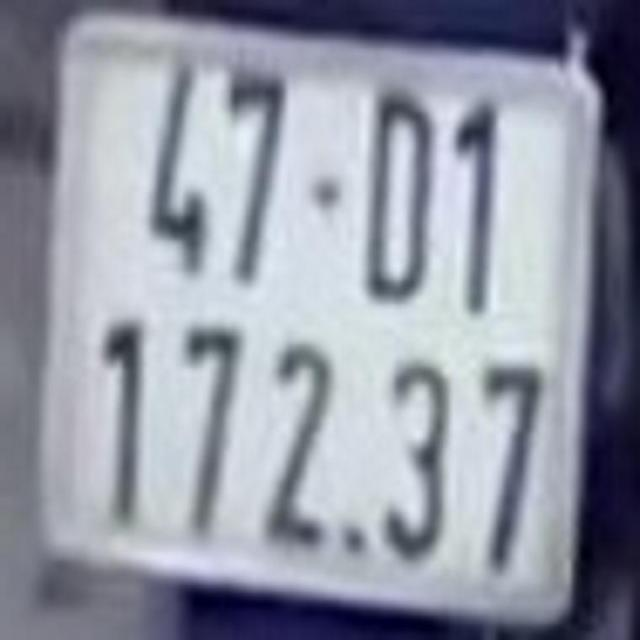1: (453, 88, 503, 339), (96, 316, 145, 534)
2: (262, 332, 333, 564)
3: (384, 351, 449, 555)
4: (150, 52, 215, 278)
7: (478, 367, 548, 579), (222, 74, 286, 288), (177, 319, 226, 532)
D: (353, 87, 434, 314)
